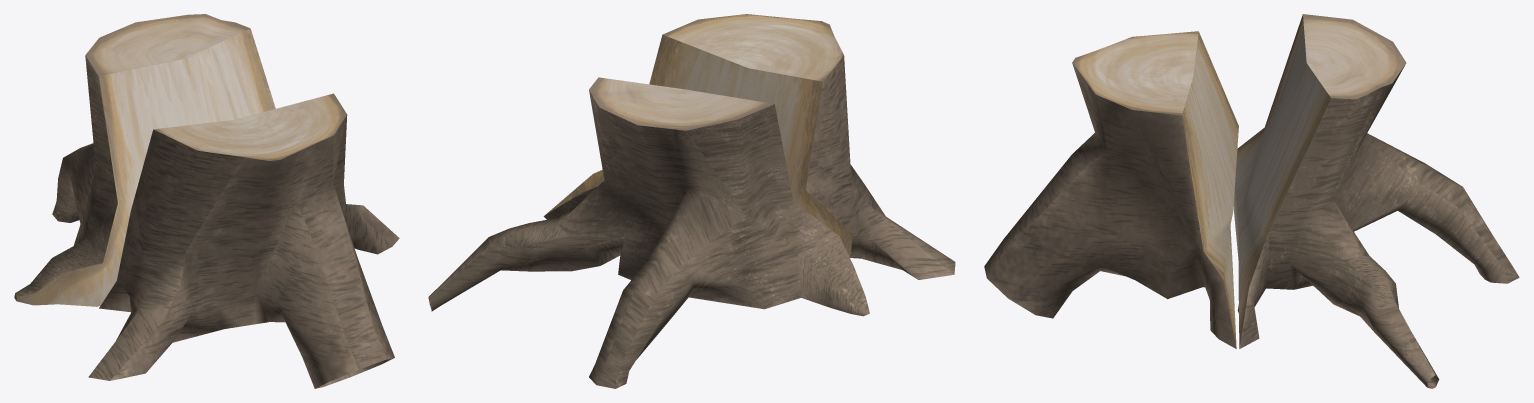
File: stubble1.fbx
3 views of the same model, side by side, from view 1: azimuth 30°, elevation 25°; view 2: azimuth 150°, elevation 25°; view 3: azimuth 270°, elevation 25° (orthographic). The views are drawn at different scales.
Visible parts, largest first — view 1: polySurface4, polySurface10; view 2: polySurface10, polySurface4; view 3: polySurface4, polySurface10.
Part boxes in pixels (x1,y1,x2,y2): polySurface4: (88,93,399,388); polySurface10: (14,14,275,306); polySurface10: (428,77,869,388); polySurface4: (545,14,955,279); polySurface4: (984,31,1238,348); polySurface10: (1233,14,1519,388).
Bounding box in the file's own units: 162 × 96.68 × 192.
Materials: 2 (2 with a texture image).
